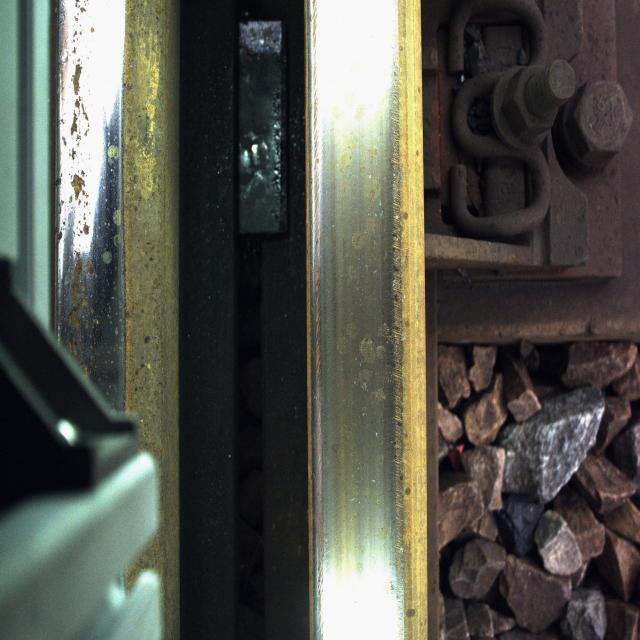normal: (315, 81, 410, 596)
scar: (55, 0, 110, 355)
